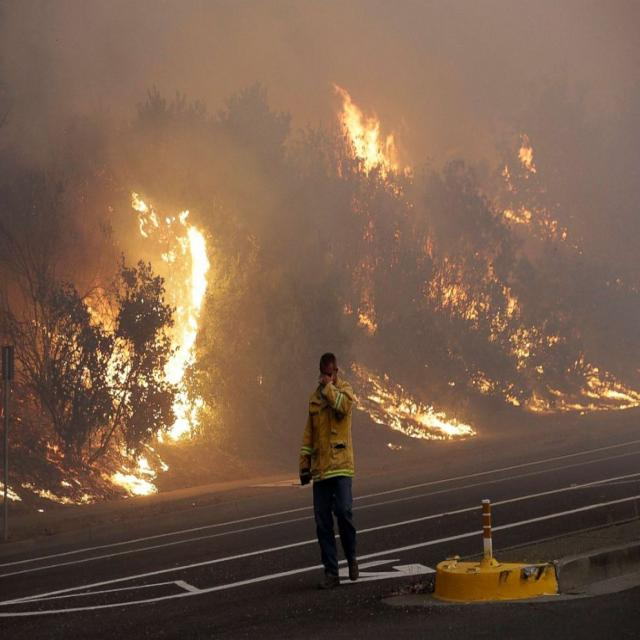Fire: (130, 194, 212, 444), (352, 364, 474, 441), (446, 279, 539, 369), (84, 285, 133, 389), (343, 97, 394, 176), (584, 366, 640, 409), (517, 138, 546, 180), (503, 202, 543, 231), (515, 394, 565, 417), (112, 471, 156, 497), (351, 304, 377, 335)
